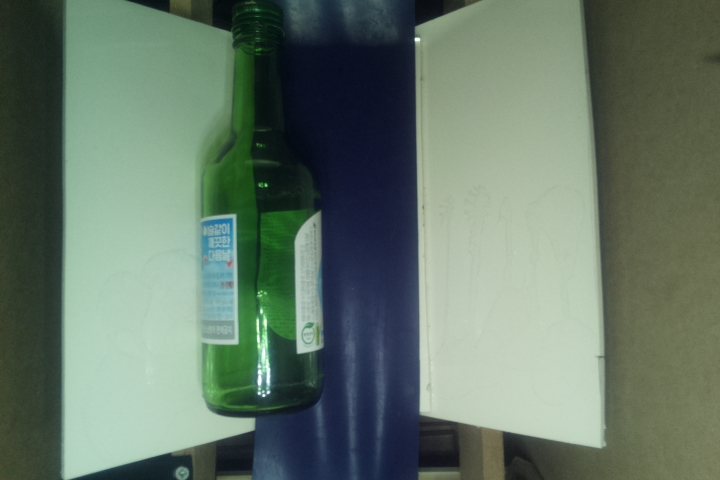soju: (195, 1, 334, 418)
